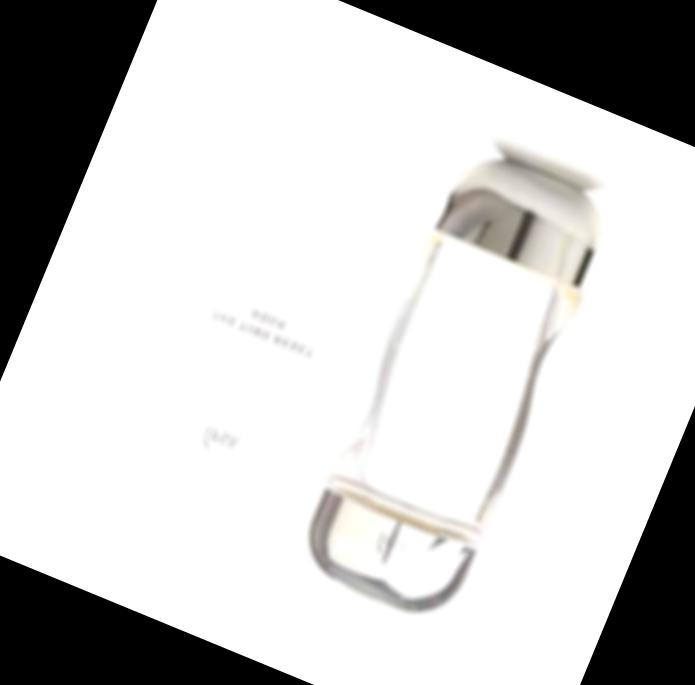cosmetic: (293, 138, 628, 631)
